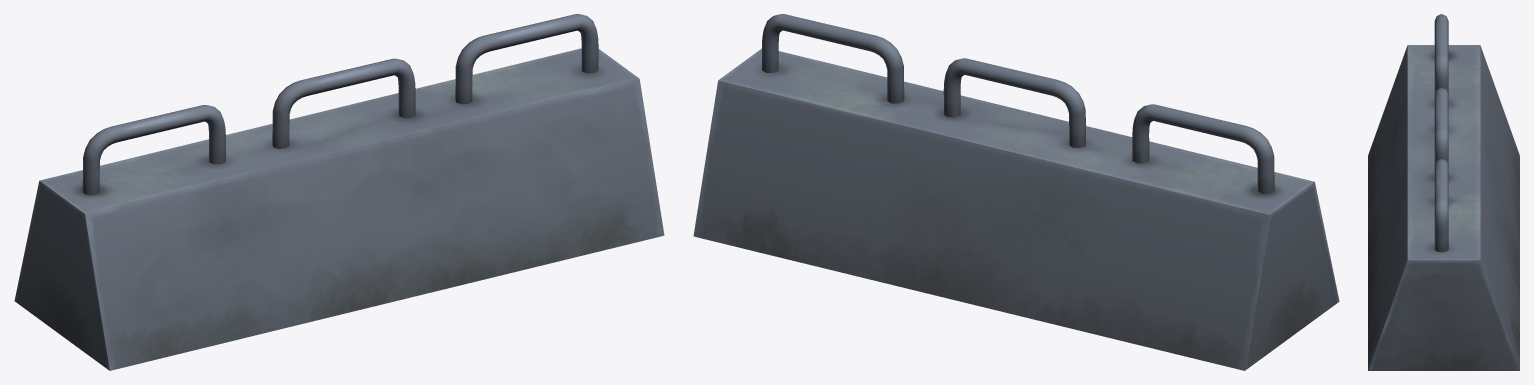
Rendered from Barrier.fbx.
3 views of the same model, side by side, from view 1: azimuth 30°, elevation 25°; view 2: azimuth 150°, elevation 25°; view 3: azimuth 270°, elevation 25° (orthographic). The views are drawn at different scales.
Visible parts, largest first — view 1: pCube7, sweep32, sweep34, sweep35; view 2: pCube7, sweep35, sweep32, sweep34; view 3: pCube7, sweep32, sweep35, sweep34.
Boxes of the visible parts, x1=… form: pCube7: x1=14, y1=48, x2=664, y2=370; sweep32: x1=455, y1=14, x2=598, y2=104; sweep34: x1=272, y1=58, x2=415, y2=148; sweep35: x1=82, y1=105, x2=225, y2=195; pCube7: x1=693, y1=48, x2=1339, y2=370; sweep35: x1=1132, y1=104, x2=1274, y2=194; sweep32: x1=762, y1=14, x2=904, y2=103; sweep34: x1=943, y1=58, x2=1086, y2=147; pCube7: x1=1368, y1=45, x2=1519, y2=370; sweep32: x1=1434, y1=159, x2=1448, y2=252; sweep35: x1=1434, y1=14, x2=1448, y2=93; sweep34: x1=1434, y1=87, x2=1448, y2=164.
Bounding box in the file's own units: 345 × 118 × 103.
